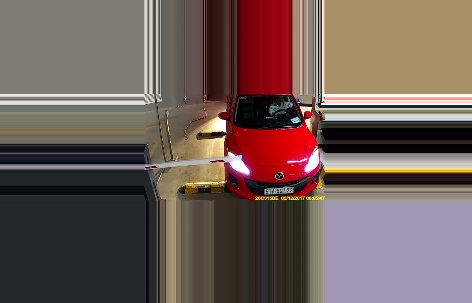plate: (260, 184, 295, 196)
